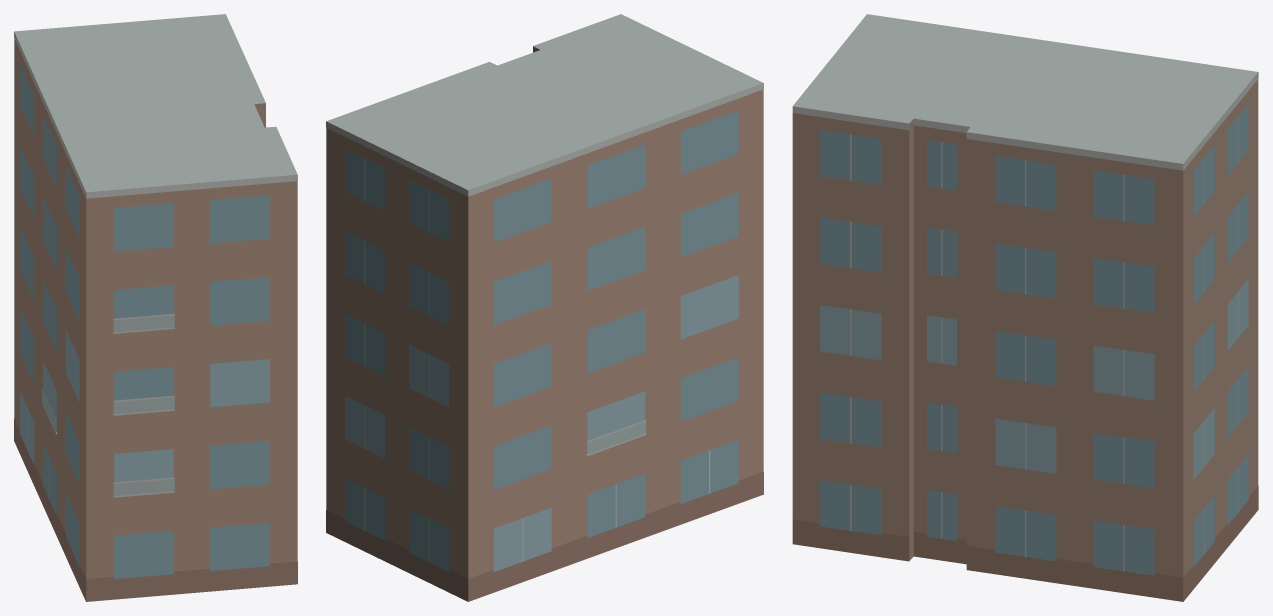
Rendered from survey-upis-32868951.glb.
3 views of the same model, side by side, from view 1: azimuth 30°, elevation 25°; view 2: azimuth 150°, elevation 25°; view 3: azimuth 270°, elevation 25° (orthographic). The views are drawn at different scales.
Visible parts, largest first — view 1: survey-upis-32868951.tmp; view 2: survey-upis-32868951.tmp; view 3: survey-upis-32868951.tmp.
Boxes of the visible parts, x1,y1,x2,y2 form: survey-upis-32868951.tmp: [14, 14, 297, 601]; survey-upis-32868951.tmp: [326, 14, 763, 601]; survey-upis-32868951.tmp: [792, 14, 1258, 601].
Bounding box in the file's own units: 11.69 × 15.9 × 15.34.
